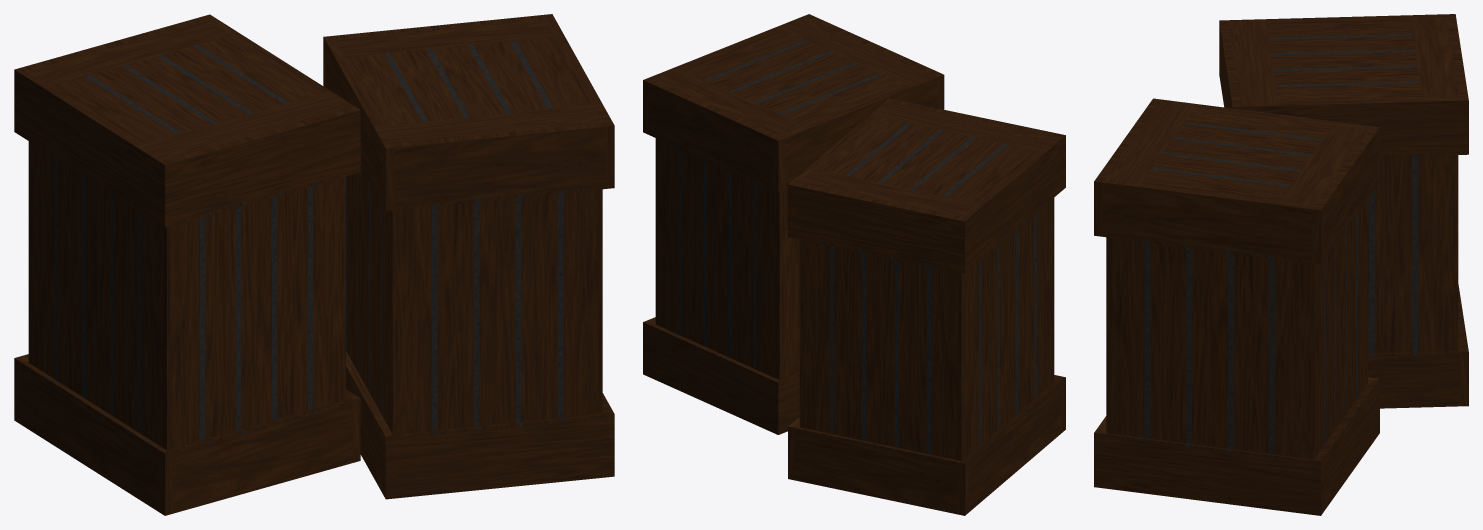
The model's file is boxes3.obj.
3 renders of one model, left to right at view 1: azimuth 30°, elevation 25°; view 2: azimuth 150°, elevation 25°; view 3: azimuth 270°, elevation 25°, orthographic. The views are drawn at different scales.
Parts seen in each view (by area): view 1: box_lowp.006, box_lowp.005; view 2: box_lowp.006, box_lowp.005; view 3: box_lowp.005, box_lowp.006.
Part boxes in pixels (x1,y1,x2,y2): box_lowp.006: [14, 14, 360, 515]; box_lowp.005: [323, 14, 614, 499]; box_lowp.006: [788, 98, 1065, 515]; box_lowp.005: [643, 14, 944, 434]; box_lowp.005: [1094, 98, 1379, 515]; box_lowp.006: [1219, 14, 1468, 408].
Size of the model in its own units: 2.53 by 1.84 by 2.05.
1 material, 1 textured.
